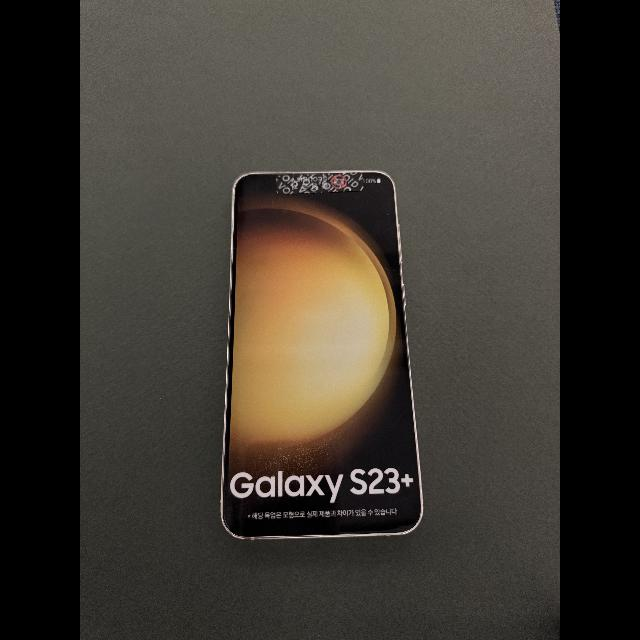phone: (221, 170, 423, 539)
sticker: (274, 172, 365, 196)
